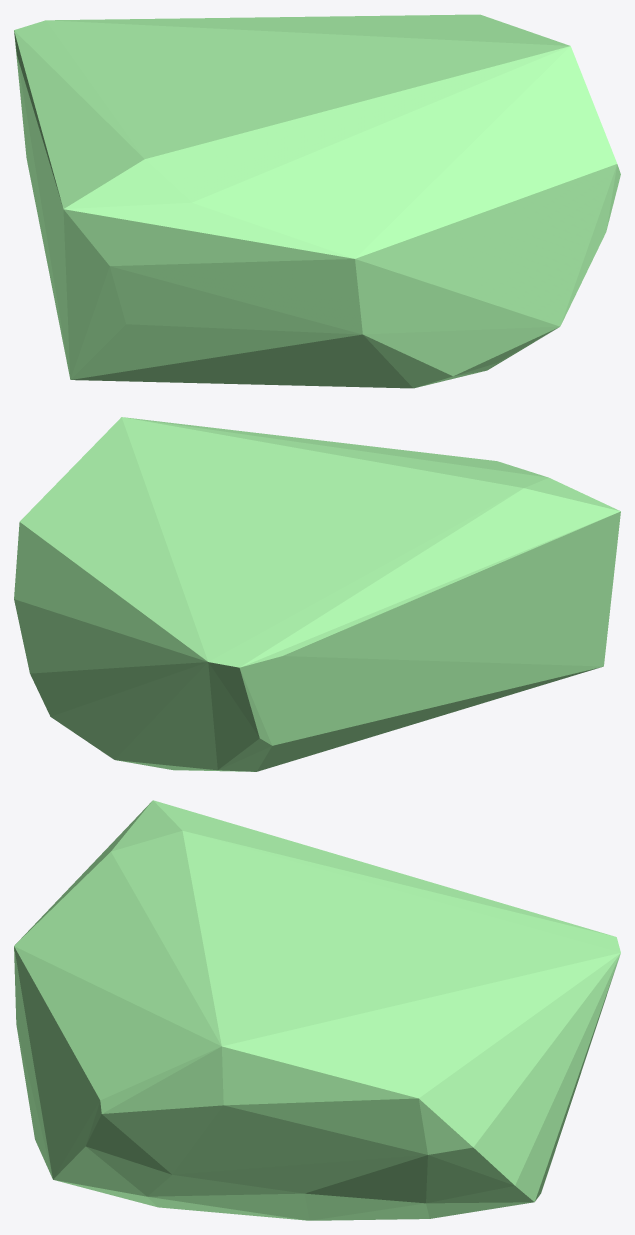
File: exported_panda_link7_resp_coll_15.dae
3 renders of one model, top to bottom at view 1: azimuth 30°, elevation 25°; view 2: azimuth 150°, elevation 25°; view 3: azimuth 270°, elevation 25°, orthographic. The views are drawn at different scales.
Parts seen in each view (by area): view 1: node; view 2: node; view 3: node.
Part boxes in pixels (left/top/right/bottom): node: left=14, top=14, right=620, bottom=388; node: left=14, top=417, right=620, bottom=771; node: left=14, top=800, right=620, bottom=1220.
Bounding box in the file's own units: 0.1293 × 0.0584 × 0.1295.
